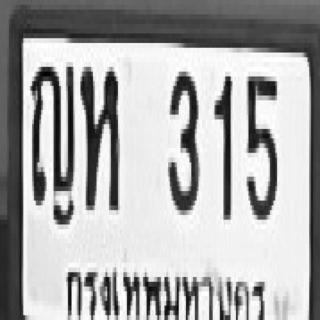A13: (29, 57, 73, 205)
A41: (79, 62, 118, 205)
N01: (213, 72, 231, 215)
N03: (166, 67, 197, 210)
N05: (245, 72, 275, 215)
P04: (64, 255, 268, 320)
